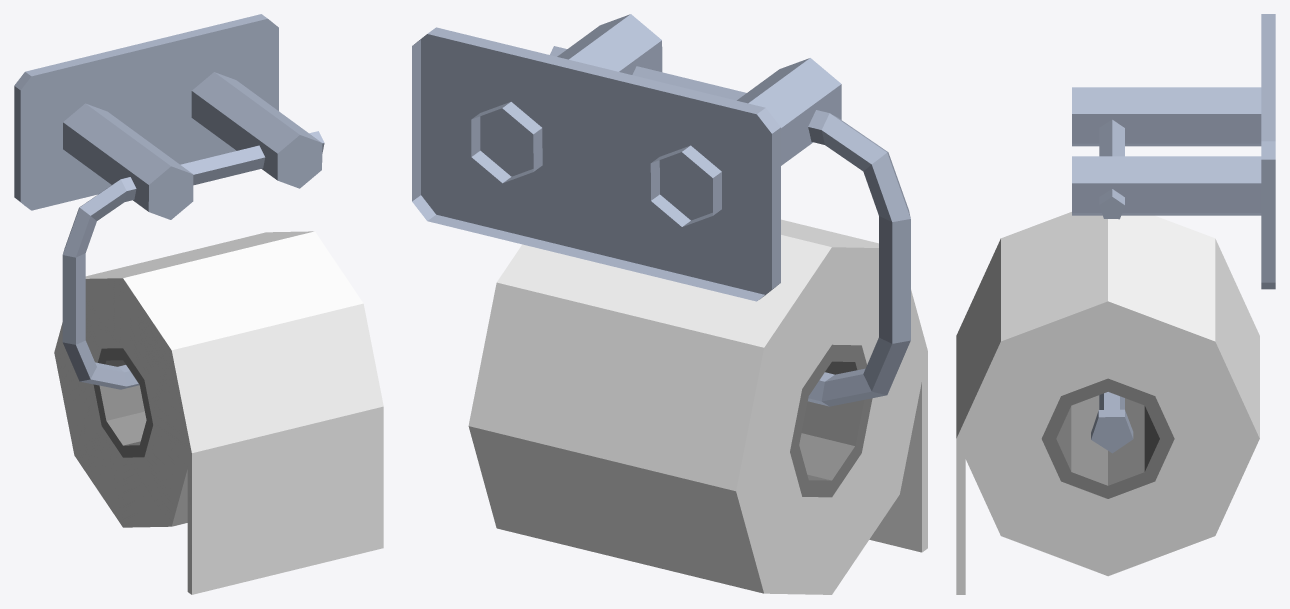
File: Toilet paper.fbx
3 renders of one model, left to right at view 1: azimuth 30°, elevation 25°; view 2: azimuth 150°, elevation 25°; view 3: azimuth 270°, elevation 25°, orthographic. The views are drawn at different scales.
Parts seen in each view (by area): view 1: Toiletpaper; view 2: Toiletpaper; view 3: Toiletpaper.
Boxes of the visible parts, x1,y1,x2,y2 form: Toiletpaper: [14, 14, 383, 594]; Toiletpaper: [412, 14, 927, 594]; Toiletpaper: [956, 14, 1275, 594].
Size of the model in its own units: 15.9 by 22.34 by 13.87.
